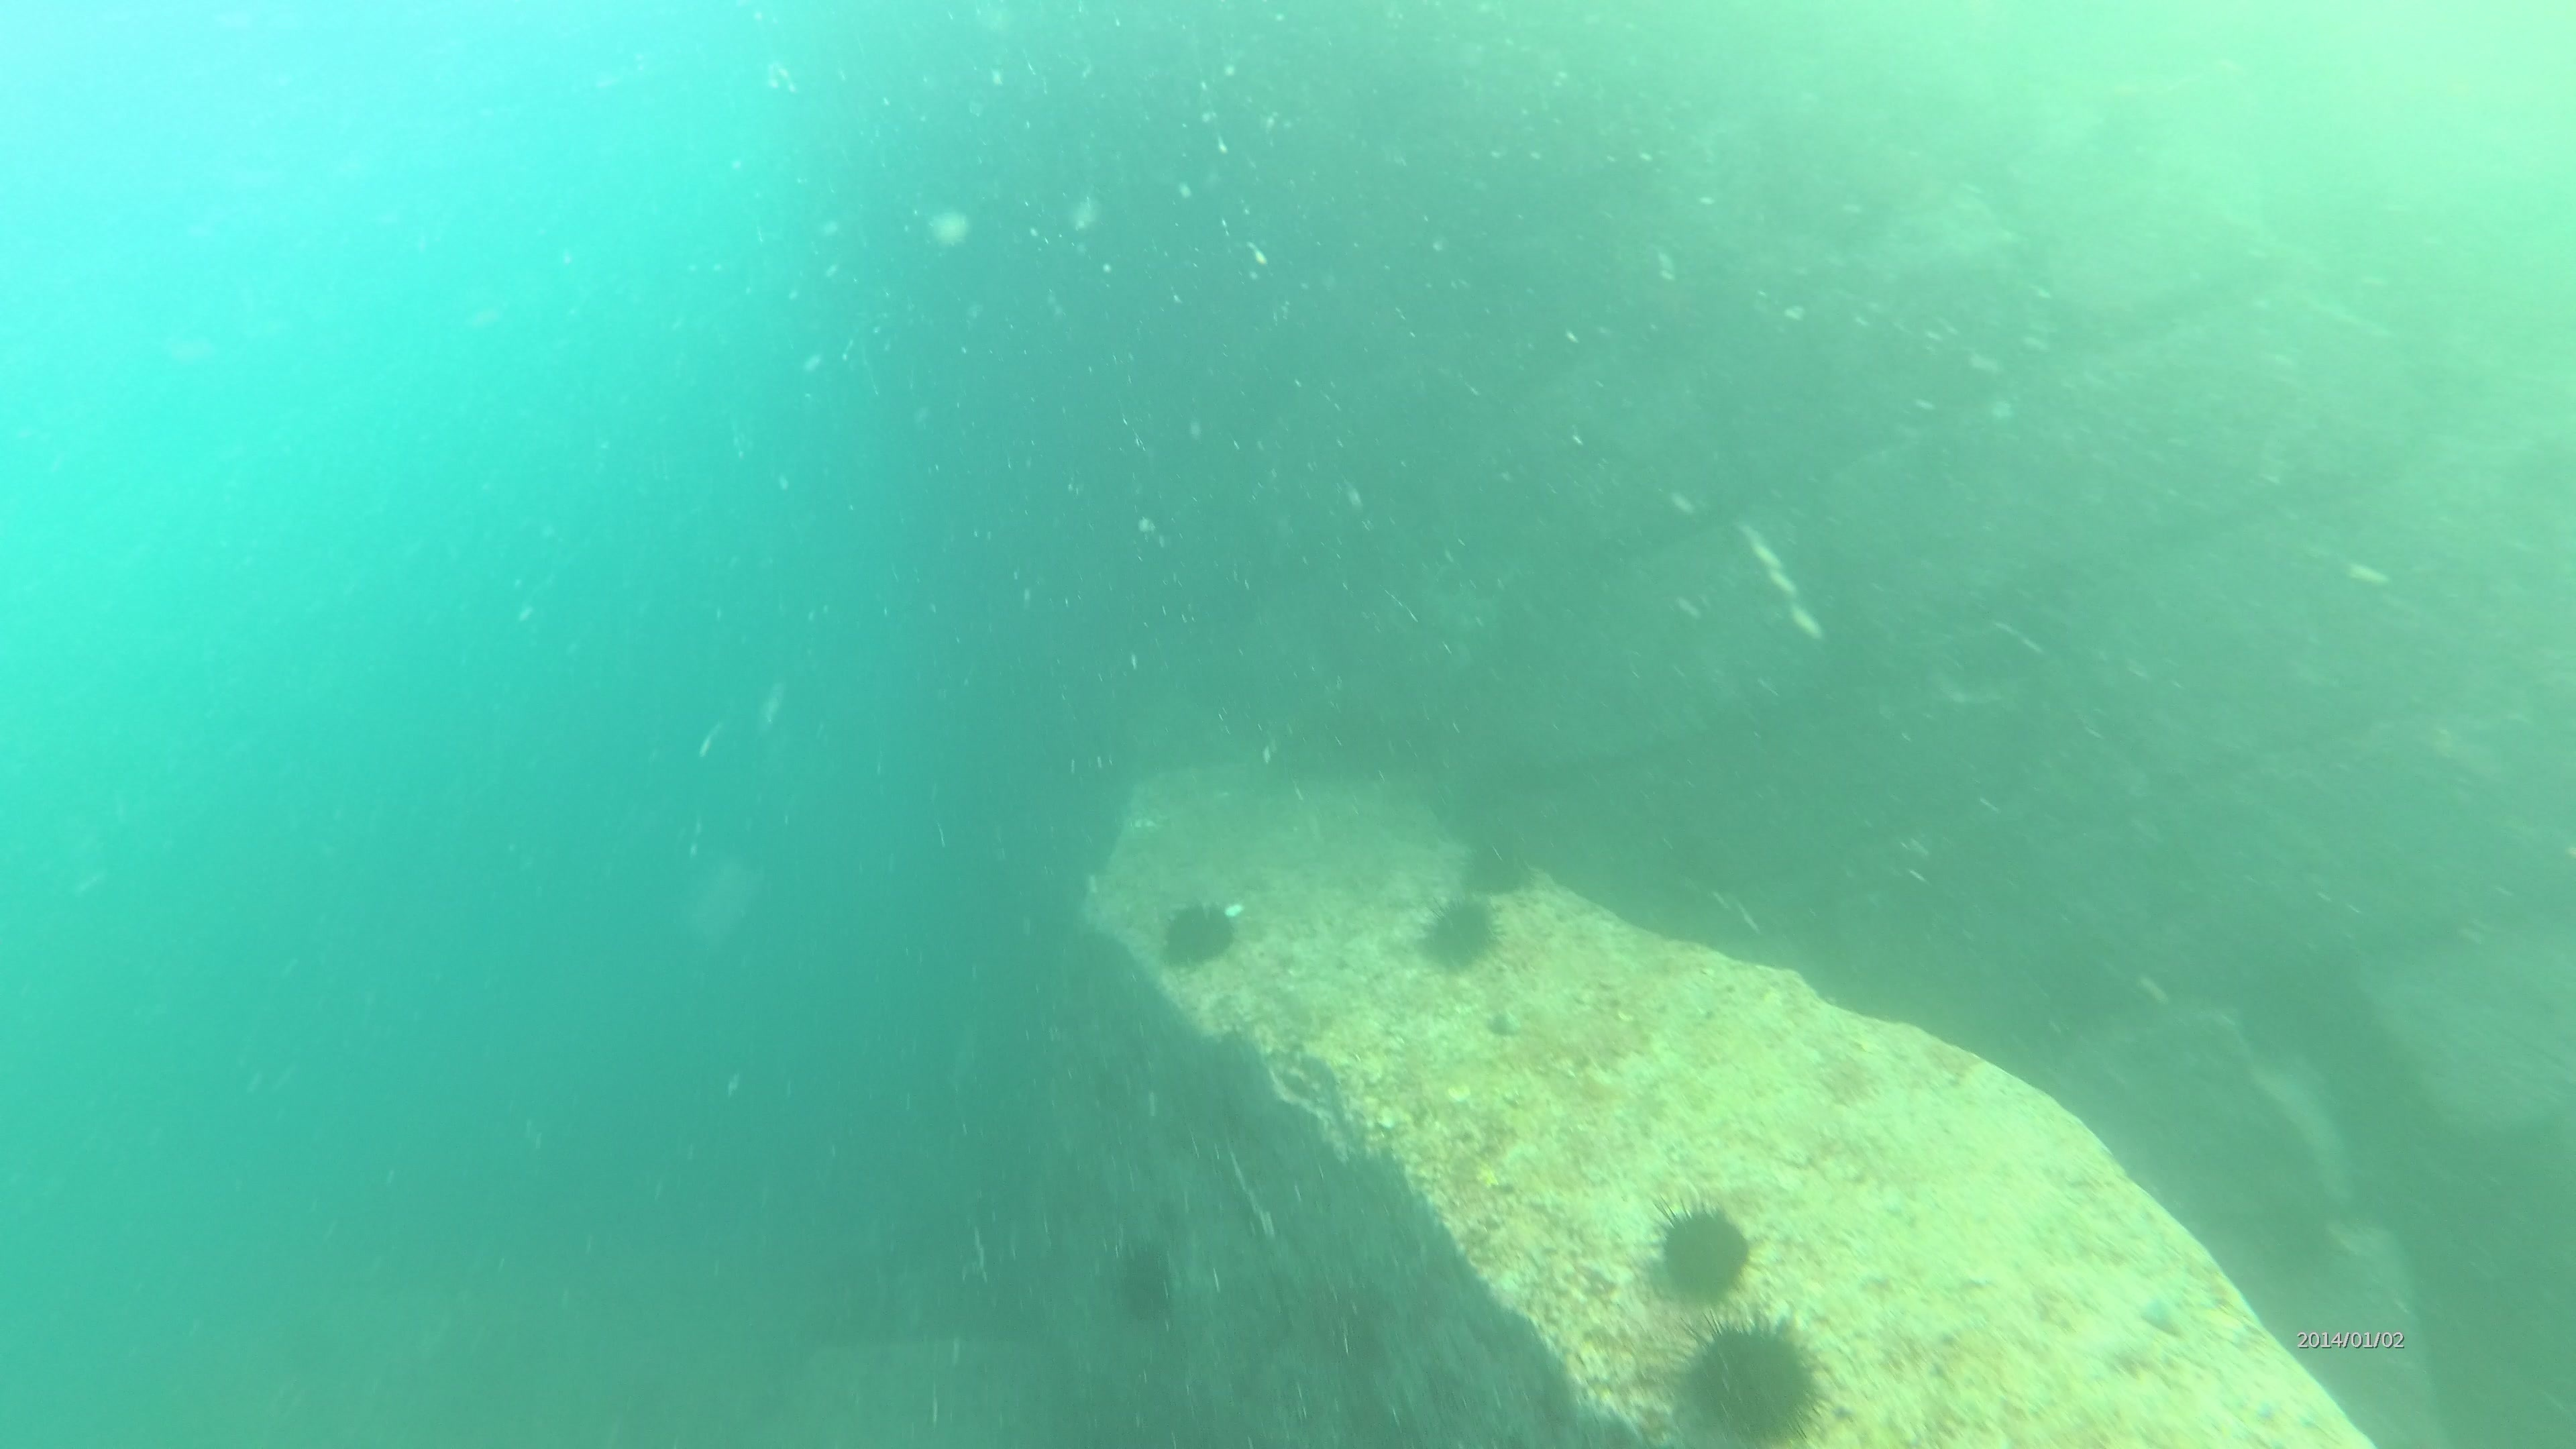echinus: (1672, 1307, 1835, 1444), (1644, 1192, 1762, 1313), (1410, 886, 1509, 978), (1099, 1231, 1189, 1332), (1150, 890, 1246, 977), (1454, 821, 1546, 902)
